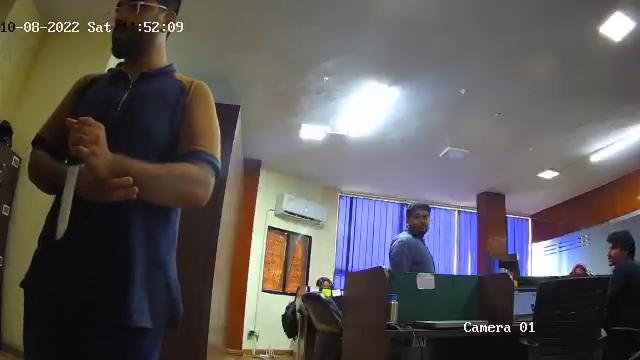knives: (44, 128, 96, 240)
